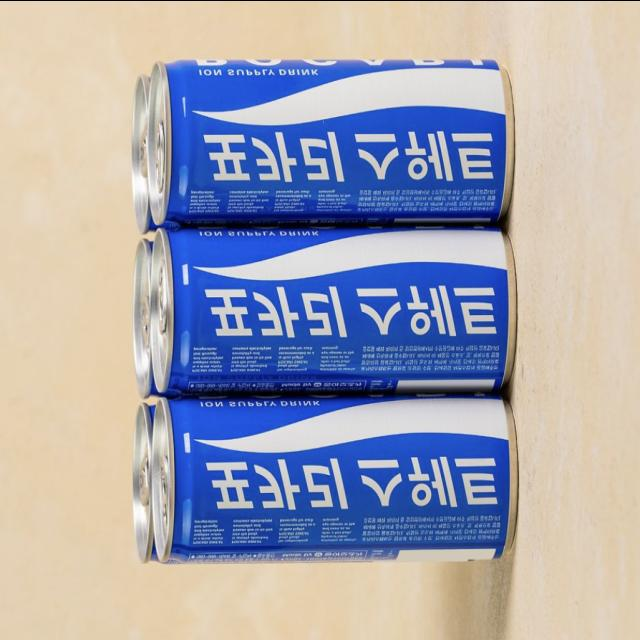can: (138, 214, 532, 410), (140, 36, 526, 232), (137, 392, 530, 574)
